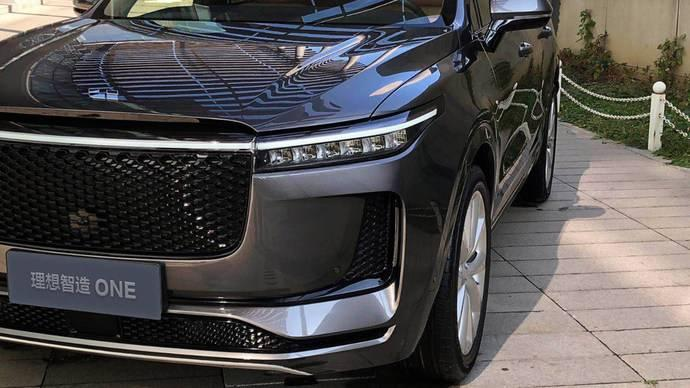Li Auto: (87, 86, 119, 103)
